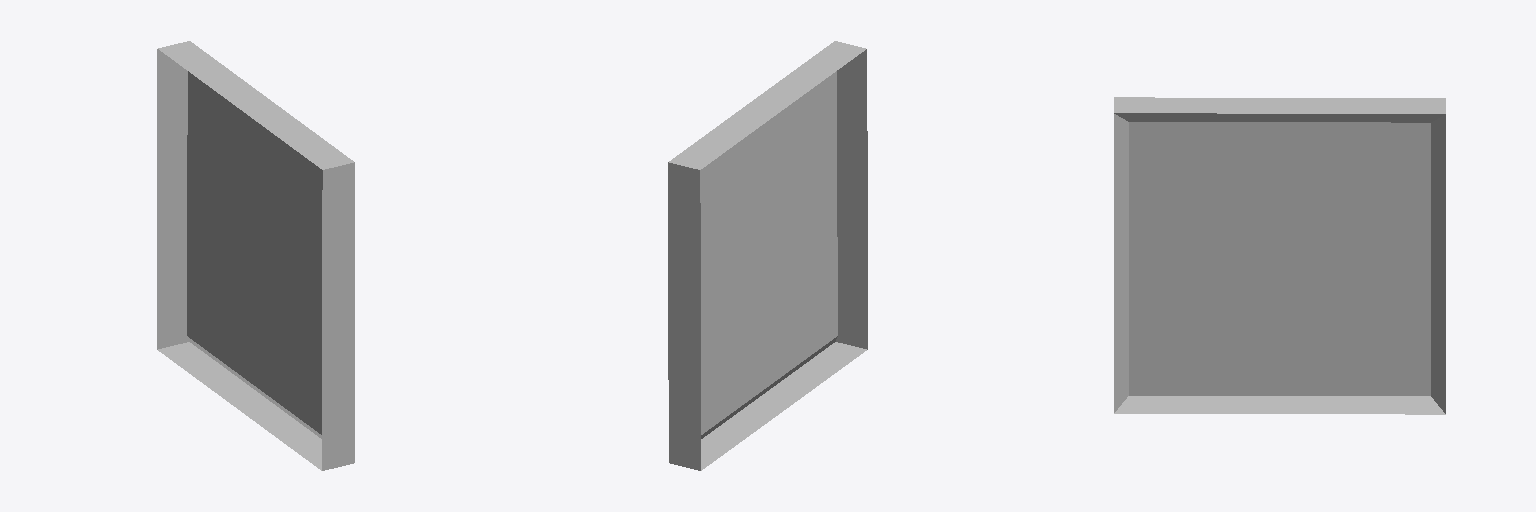
Rendered from photo frame.obj.
The picture shows the model from 3 angles: view 1: azimuth 30°, elevation 25°; view 2: azimuth 150°, elevation 25°; view 3: azimuth 270°, elevation 25°; orthographic projection.
Visible parts, largest first — view 1: polySurface170; view 2: polySurface170; view 3: polySurface170.
Boxes of the visible parts, box(x1,y1,x2,y2) form: polySurface170: box(157, 41, 354, 470); polySurface170: box(668, 41, 867, 470); polySurface170: box(1114, 97, 1445, 414).
Size of the model in its own units: 123 by 1049 by 1050.